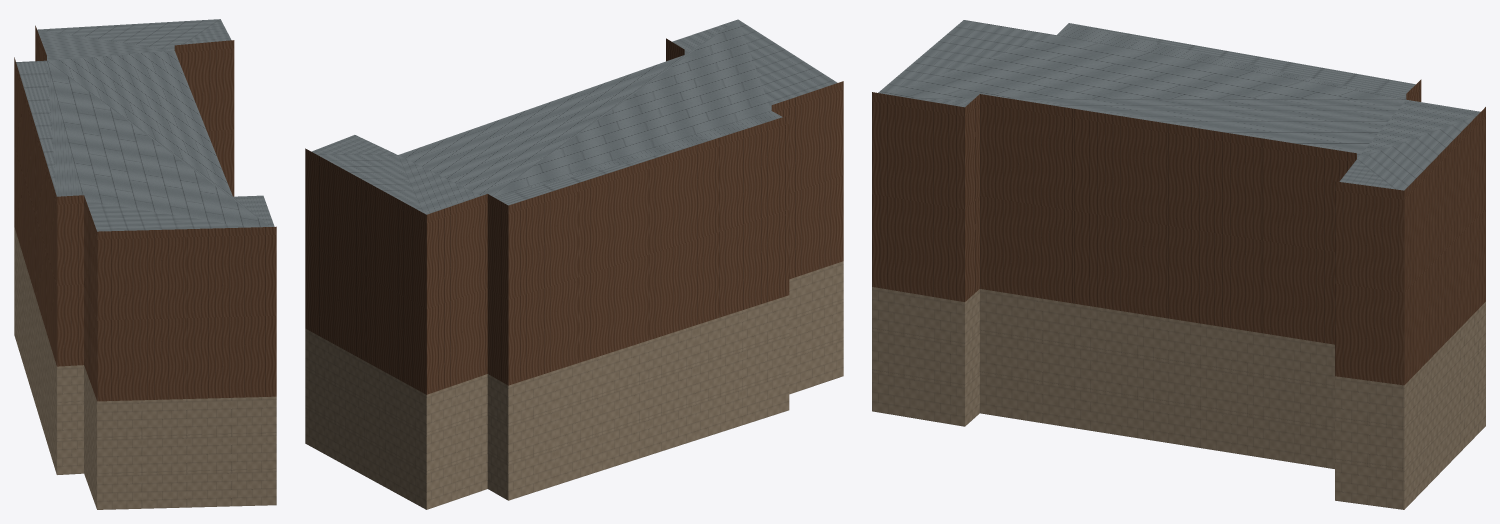
Rendered from bld_c0_-6_586.gltf.
The picture shows the model from 3 angles, left to right: view 1: azimuth 30°, elevation 25°; view 2: azimuth 150°, elevation 25°; view 3: azimuth 270°, elevation 25°; orthographic projection. The views are drawn at different scales.
Visible parts, largest first — view 1: bld_c0_-6_586; view 2: bld_c0_-6_586; view 3: bld_c0_-6_586.
Boxes of the visible parts, x1,y1,x2,y2 form: bld_c0_-6_586: [14, 19, 276, 509]; bld_c0_-6_586: [305, 19, 843, 509]; bld_c0_-6_586: [872, 20, 1485, 509].
Bounding box in the file's own units: 15.51 × 13.08 × 22.78.
Materials: 4 (4 with a texture image).
